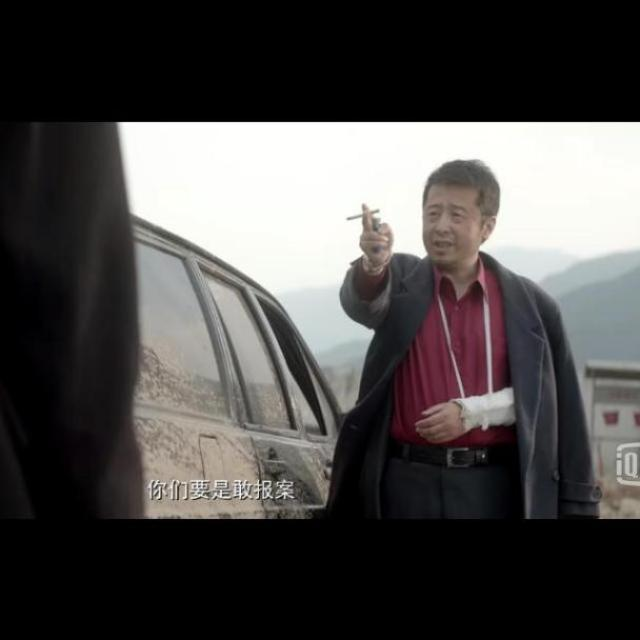rokok: (341, 203, 381, 223)
